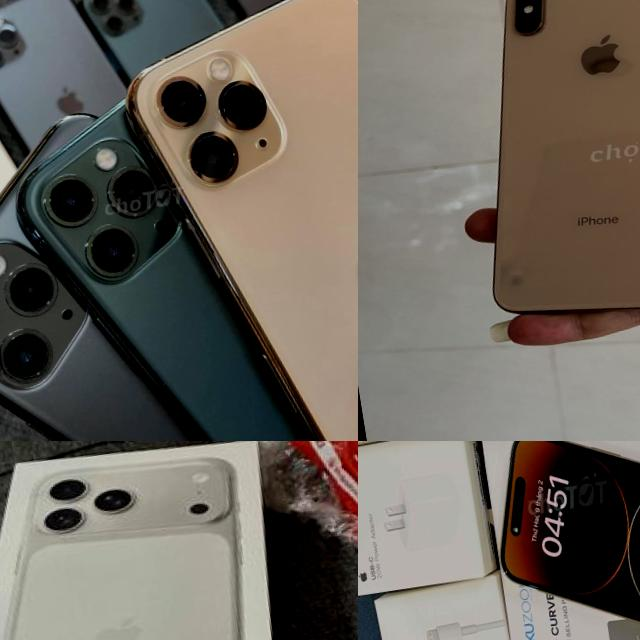gen_14: (111, 0, 358, 441), (480, 441, 640, 640)
gen_17: (0, 441, 285, 640)
gen_x_xs: (494, 0, 640, 314)
scratch: (474, 253, 551, 306)
